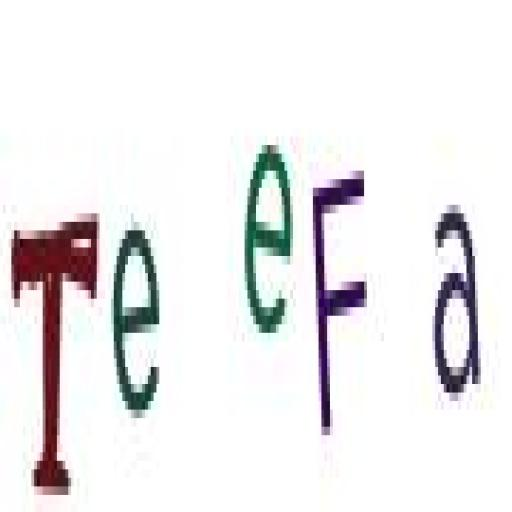F: (310, 163, 374, 460)
T: (6, 192, 102, 506)
a: (430, 191, 488, 412)
e: (106, 209, 168, 433), (241, 139, 300, 355)
